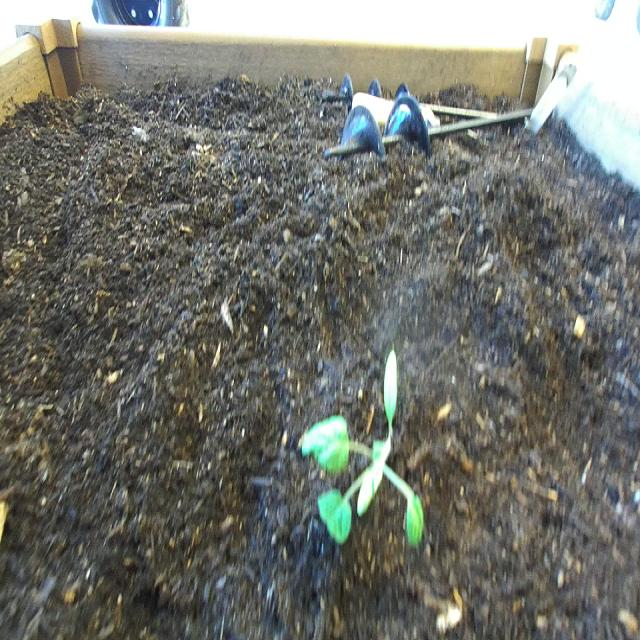Healthy: (291, 321, 441, 601)
